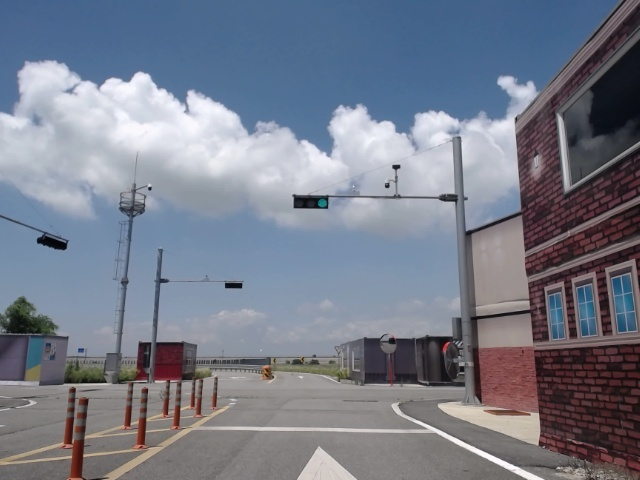green_3: (294, 193, 331, 210)
